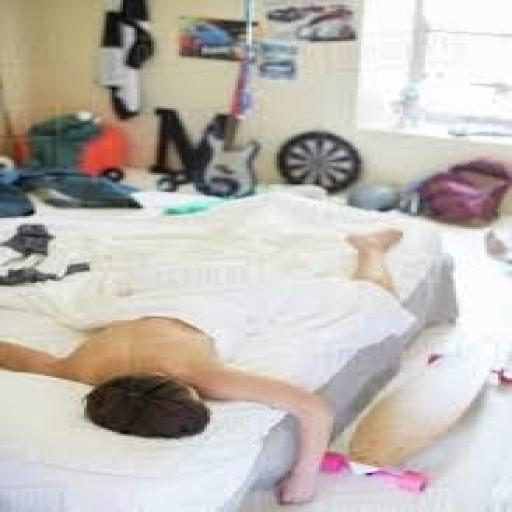sleeping: (0, 224, 501, 504)
